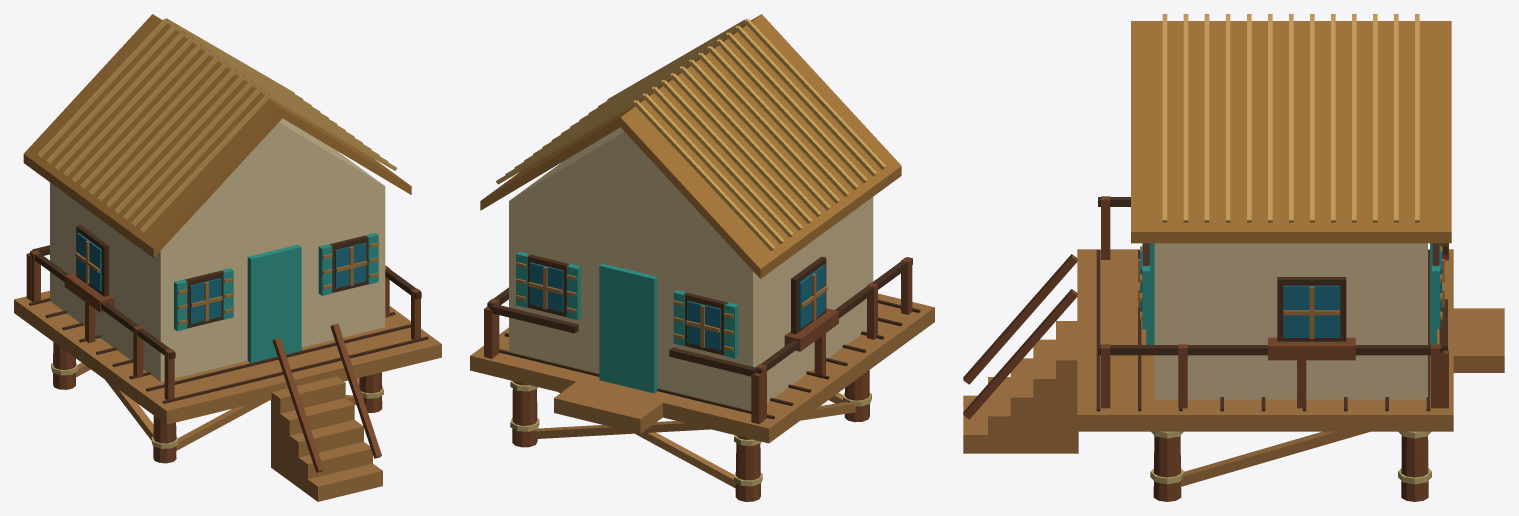
Rendered from Tropical_StiltHut_Showcase.glb.
3 views of the same model, side by side, from view 1: azimuth 30°, elevation 25°; view 2: azimuth 150°, elevation 25°; view 3: azimuth 270°, elevation 25° (orthographic). The views are drawn at different scales.
Parts seen in each view (by area): view 1: Tropical_StiltHut_Showcase; view 2: Tropical_StiltHut_Showcase; view 3: Tropical_StiltHut_Showcase.
Boxes of the visible parts, box(x1,y1,x2,y2) form: Tropical_StiltHut_Showcase: box(14, 14, 441, 501); Tropical_StiltHut_Showcase: box(470, 14, 934, 501); Tropical_StiltHut_Showcase: box(963, 14, 1504, 501).
Size of the model in its own units: 3.8 by 4.49 by 5.25.
